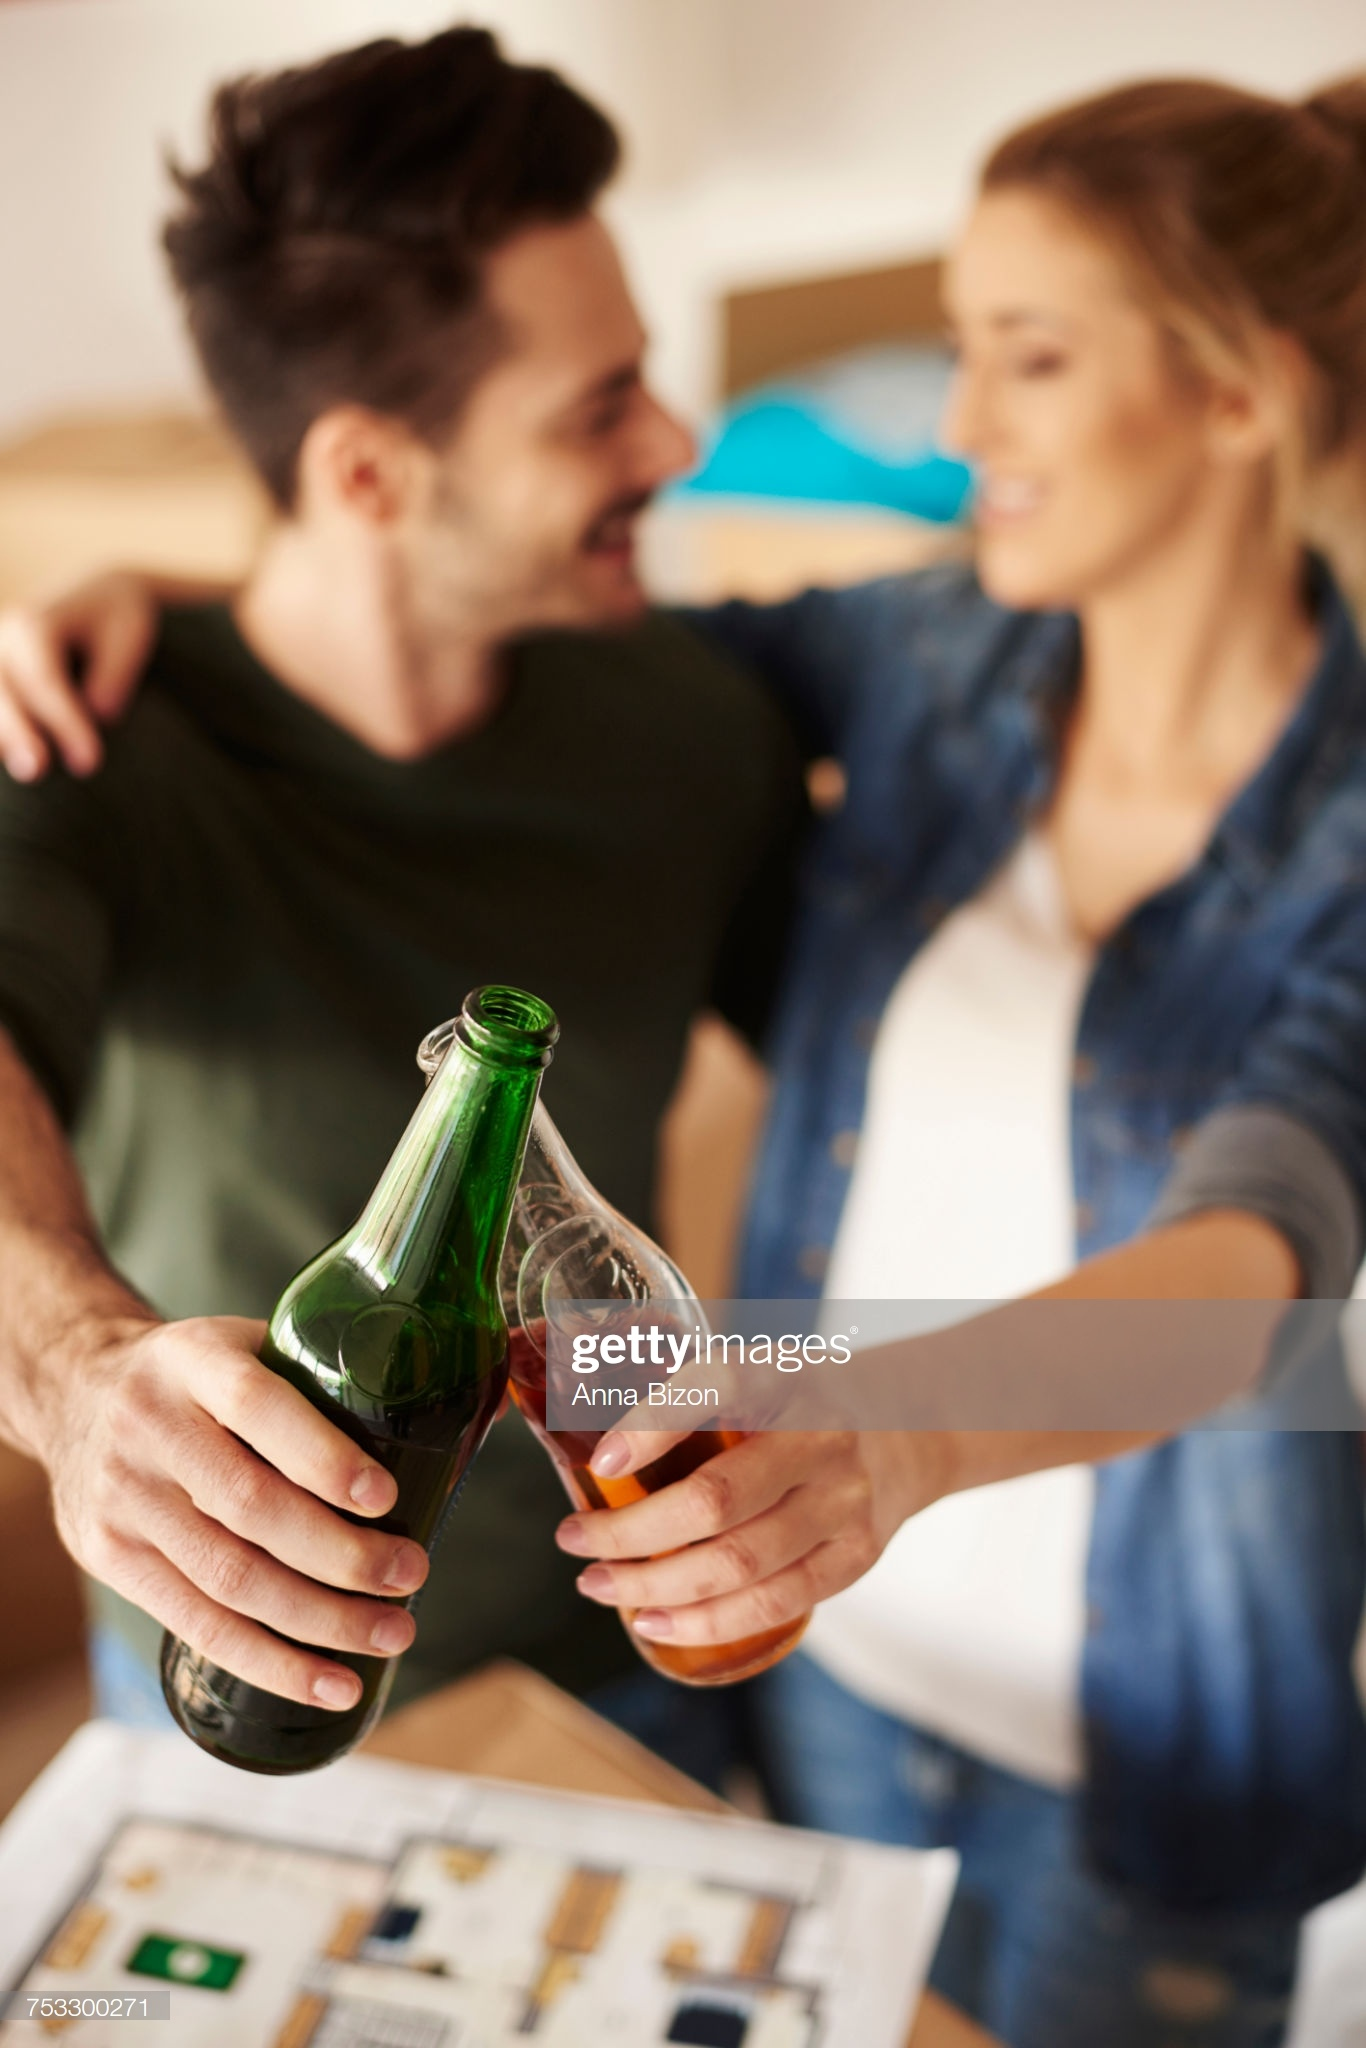beerBottle: (169, 992, 566, 1786), (406, 1013, 834, 1688)
